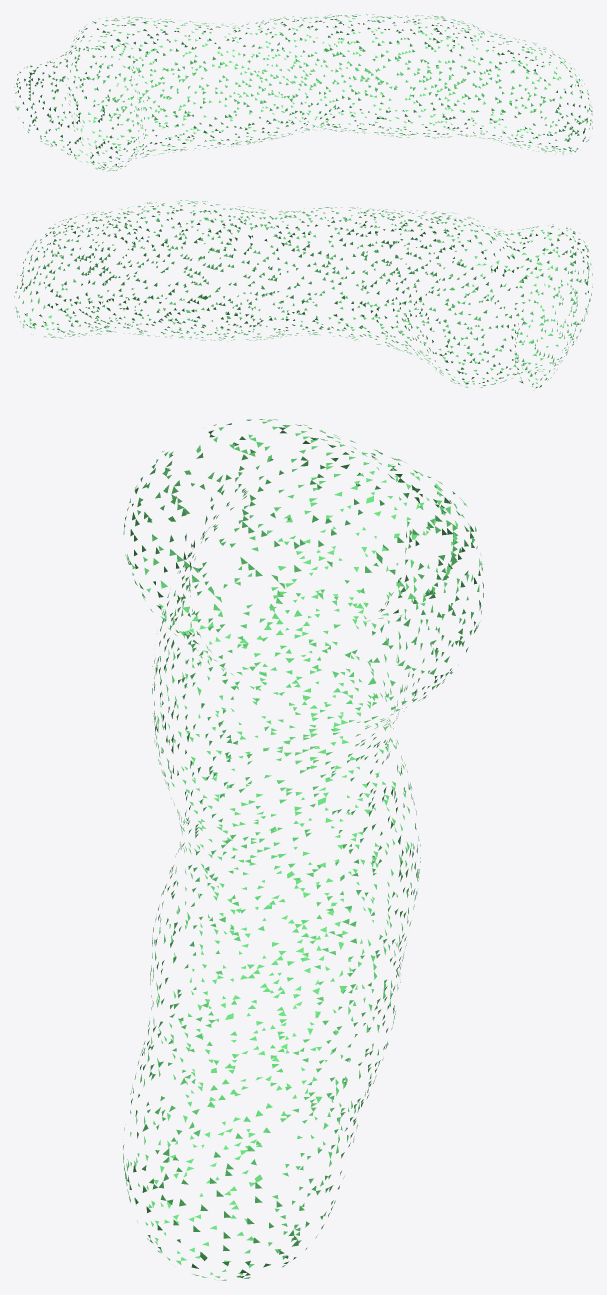
The model's file is morph_019.glb.
3 views of the same model, one above another, from view 1: azimuth 30°, elevation 25°; view 2: azimuth 150°, elevation 25°; view 3: azimuth 270°, elevation 25° (orthographic). The views are drawn at different scales.
Size of the model in its own units: 112 by 43.88 by 34.44.
